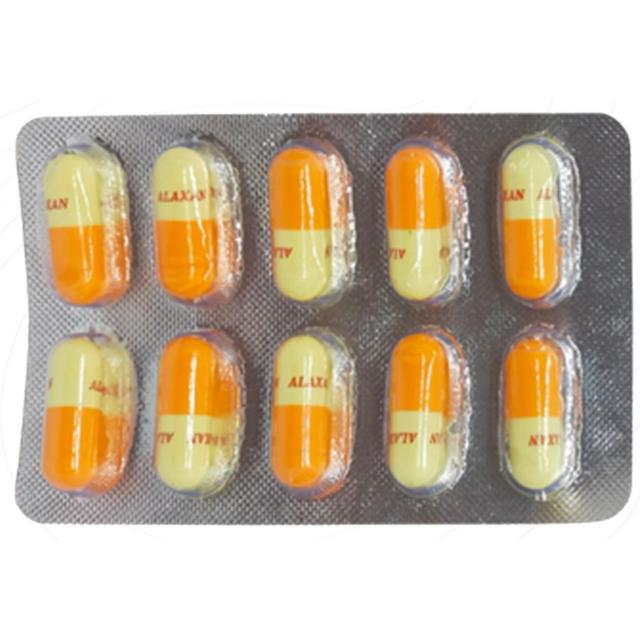blister: (7, 98, 636, 530)
